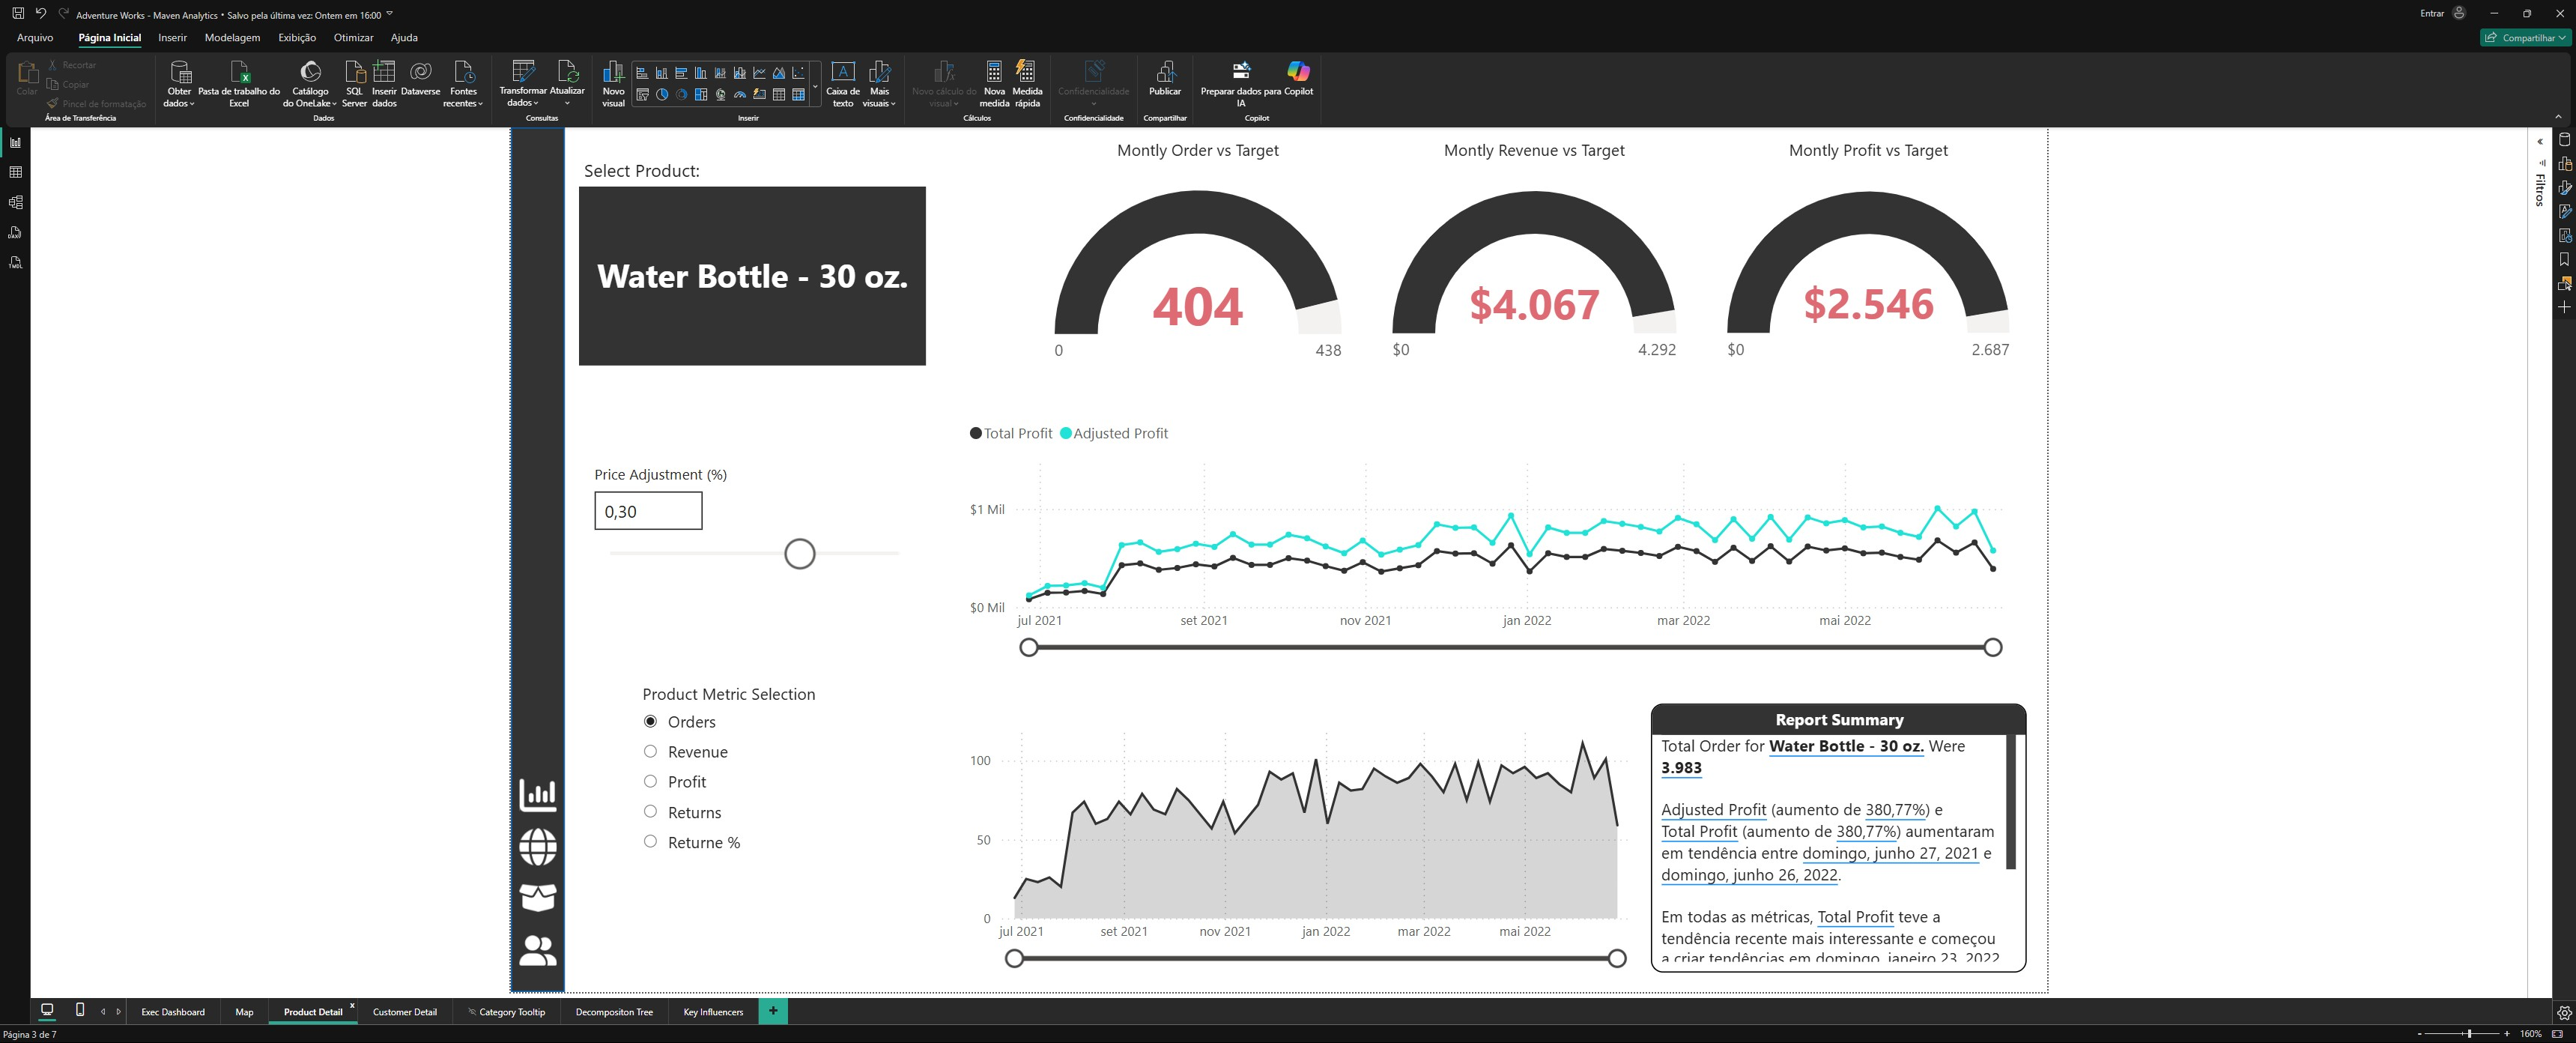

The page's visual inventory and layout, read from the dashboard file:
{"tool":"powerbi","page":{"name":"Product Detail","canvas":[1280,720],"ordinal":2},"visuals":[{"type":"shape","box":[0,0,45,720],"z":0},{"type":"actionButton","box":[3,536.7,42.4,39.3],"z":0,"group":"g1"},{"type":"gauge","title":"Montly Order vs Target","fields":{"MaxValue":["Measure Table (Inserir).Order Target"],"Y":["Measure Table (Inserir).Total Orders"]},"box":[447.7,10.1,249.2,213.8],"z":1000},{"type":"actionButton","box":[3,579.6,42.4,39.3],"z":1000,"group":"g1"},{"type":"gauge","title":"Montly Profit vs Target","fields":{"MaxValue":["Measure Table (Inserir).profit Target"],"Y":["Measure Table (Inserir).Total Profit"]},"box":[1008.1,10.1,245.4,213.8],"z":2000},{"type":"actionButton","box":[3,622.5,42.4,39.3],"z":2000,"group":"g1"},{"type":"gauge","title":"Montly Revenue vs Target","fields":{"MaxValue":["Measure Table (Inserir).Revenue Target"],"Y":["Measure Table (Inserir).Total Revenue"]},"box":[729.2,10.1,246.6,213.8],"z":3000},{"type":"actionButton","box":[3,665.8,42.4,39.3],"z":3000,"group":"g1"},{"type":"lineChart","title":"Profit Trending","fields":{"Category":["Calendar Lookup.Ano Hierarquia.Ano","Calendar Lookup.Ano Hierarquia.Início do Mês","Calendar Lookup.Ano Hierarquia.Início da Semana","Calendar Lookup.Ano Hierarquia.Date"],"Y":["Measure Table (Inserir).Total Profit","Measure Table (Inserir).Adjusted Profit"]},"box":[375.3,234.1,887.1,210.6],"z":4000},{"type":"areaChart","title":"Return Trending","fields":{"Category":["Calendar Lookup.Ano Hierarquia.Ano","Calendar Lookup.Ano Hierarquia.Início do Mês","Calendar Lookup.Ano Hierarquia.Início da Semana","Calendar Lookup.Ano Hierarquia.Date"],"Y":["Measure Table (Inserir).Total Orders"]},"box":[375.3,485.9,574.1,217.6],"z":5000},{"type":"card","fields":{"Values":["Min(Product Lookup.ProductName)"]},"box":[56.5,49.4,289.4,149.4],"z":6000},{"type":"textbox","box":[56.4,19.8,318.9,31],"z":7000},{"type":"group","id":"g1","title":"Navigation Buttons","box":[3,536.7,42.4,168.5],"z":8000},{"type":"slicer","fields":{"Values":["Price Adjustment (%).Price Adjustment (%)"]},"box":[56.5,275.3,289.2,129.8],"z":9000},{"type":"slicer","fields":{"Values":["Product Metric Selection.Product Metric Selection"]},"box":[96.5,457.6,208.8,208.8],"z":10000},{"type":"textbox","title":"Report Summary","box":[949.4,480,312.9,223.5],"z":10001}]}

Visuals, with their boxes on the page's 1280x720 design canvas (x1, y1, x2, y2). These are canvas units, not pixel positions in the 2576x1043 screenshot, which may show the page scaled, cropped or inside an application window:
shape: box=[0, 0, 45, 720]
actionButton: box=[3, 537, 45, 576]
"Montly Order vs Target" gauge: box=[448, 10, 697, 224]
actionButton: box=[3, 580, 45, 619]
"Montly Profit vs Target" gauge: box=[1008, 10, 1254, 224]
actionButton: box=[3, 622, 45, 662]
"Montly Revenue vs Target" gauge: box=[729, 10, 976, 224]
actionButton: box=[3, 666, 45, 705]
"Profit Trending" lineChart: box=[375, 234, 1262, 445]
"Return Trending" areaChart: box=[375, 486, 949, 704]
card - Min(Product Lookup.ProductName): box=[56, 49, 346, 199]
textbox: box=[56, 20, 375, 51]
"Navigation Buttons" group: box=[3, 537, 45, 705]
slicer - Price Adjustment (%).Price Adjustment (%): box=[56, 275, 346, 405]
slicer - Product Metric Selection.Product Metric Selection: box=[96, 458, 305, 666]
"Report Summary" textbox: box=[949, 480, 1262, 704]
